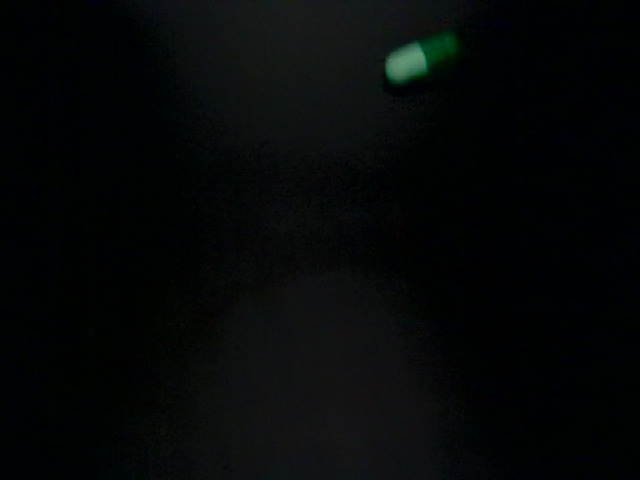YHLJ: (418, 69, 544, 180)
